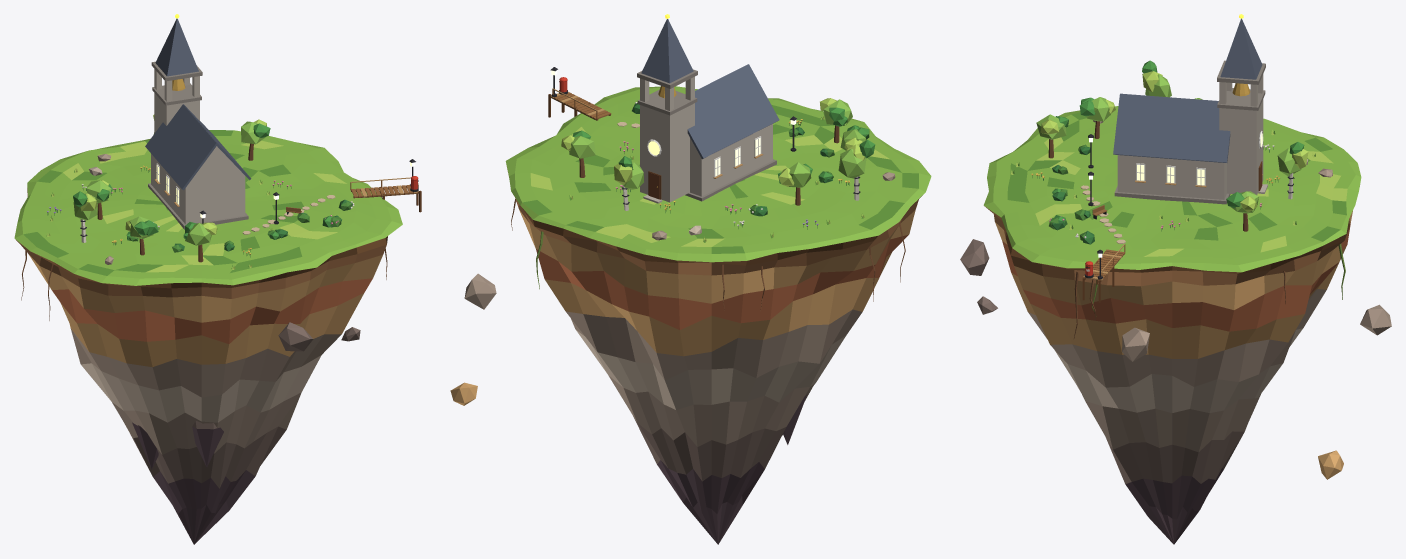
File: island_chapel.glb
3 renders of one model, left to right at view 1: azimuth 30°, elevation 25°; view 2: azimuth 150°, elevation 25°; view 3: azimuth 270°, elevation 25°, orthographic. The views are drawn at different scales.
Visible parts, largest first — view 1: Island-col, Dressing, Debris; view 2: Island-col, Dressing, Debris; view 3: Island-col, Dressing, Debris.
Boxes of the visible parts, x1,y1,x2,y2 form: Island-col: (14, 130, 402, 544); Dressing: (47, 14, 421, 269); Debris: (278, 322, 360, 351); Island-col: (505, 86, 931, 544); Dressing: (548, 14, 895, 242); Debris: (450, 273, 496, 405); Island-col: (983, 106, 1361, 544); Dressing: (1010, 14, 1332, 302); Debris: (960, 239, 1391, 479).
Size of what is drawn, in the model's own units: 48.36 by 65.84 by 47.82.
